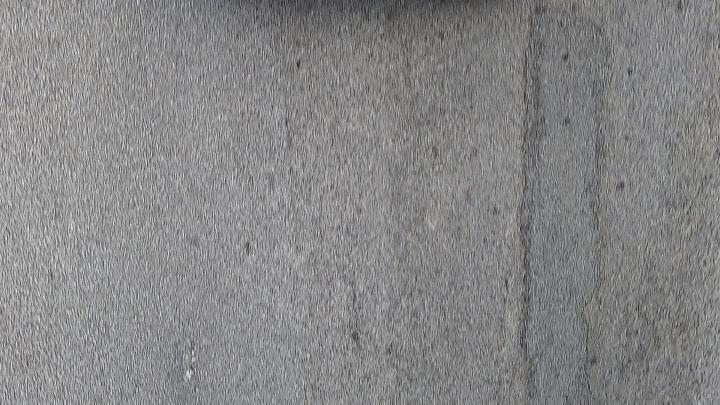Crack: (514, 6, 549, 404), (518, 6, 546, 396)
